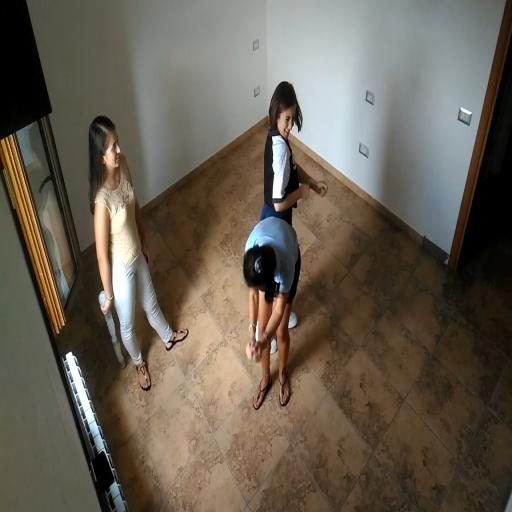nao-violencia: (225, 75, 334, 420)
